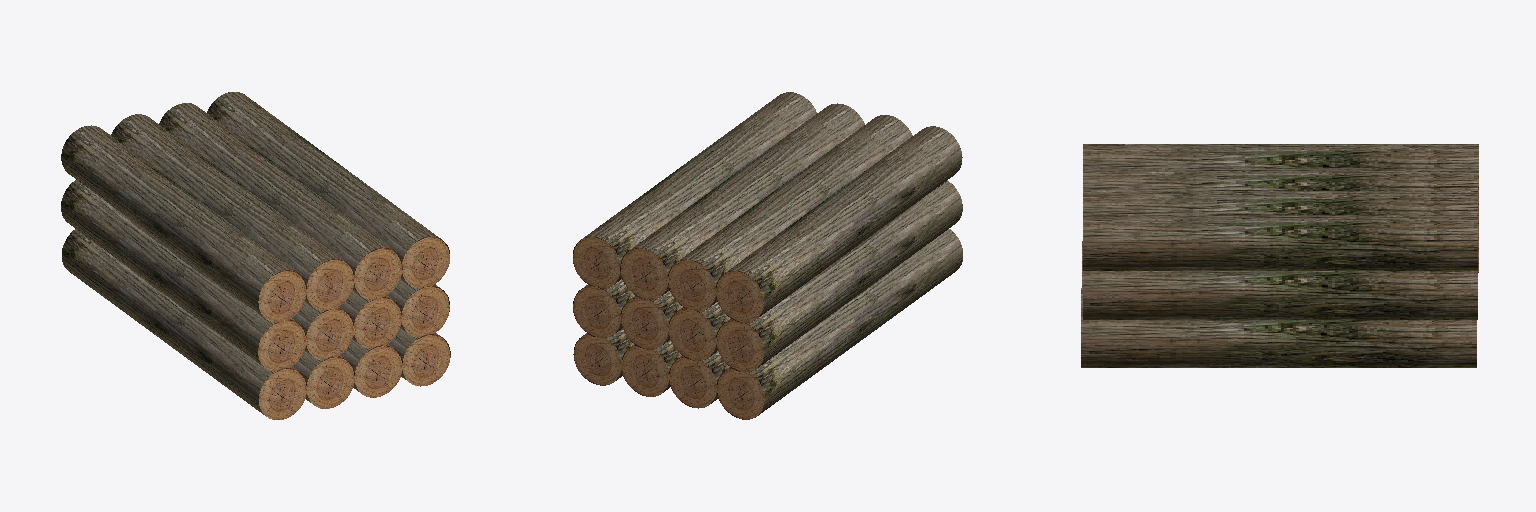
3 views of the same model, side by side, from view 1: azimuth 30°, elevation 25°; view 2: azimuth 150°, elevation 25°; view 3: azimuth 270°, elevation 25° (orthographic).
Visible parts, largest first — view 1: Tronco; view 2: Tronco; view 3: Tronco.
Part boxes in pixels (left/top/right/bottom): Tronco: left=61, top=92, right=450, bottom=419; Tronco: left=573, top=92, right=962, bottom=419; Tronco: left=1081, top=144, right=1478, bottom=367.
Bounding box in the file's own units: 1.44 × 1.06 × 2.56.
2 materials, 2 textured.